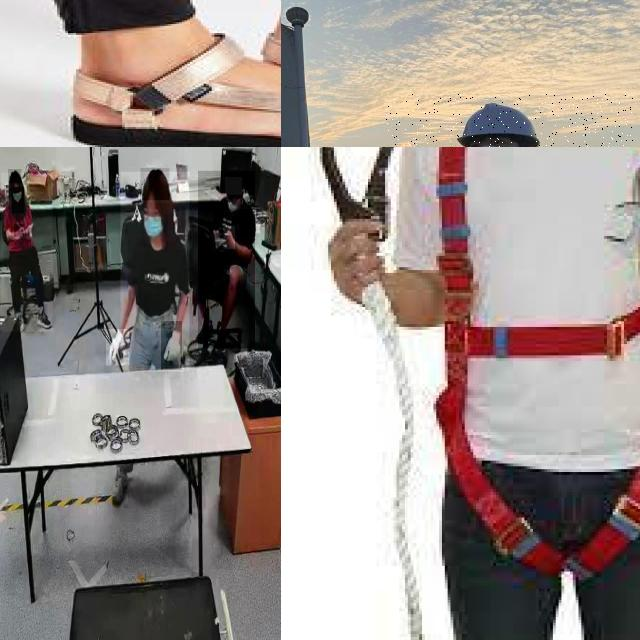Harness: (436, 147, 640, 581)
Sandals: (72, 32, 281, 147)
face_mask: (140, 203, 168, 247), (223, 198, 241, 216), (12, 187, 24, 213)
hand_glove: (161, 321, 183, 371), (106, 329, 130, 366)
hand_noglove: (223, 226, 236, 250), (14, 224, 24, 238), (21, 228, 31, 238)
head_helmet: (455, 103, 541, 147)
head_nohelmet: (140, 168, 170, 201), (225, 177, 243, 196), (8, 169, 22, 184)
person: (120, 172, 190, 372), (386, 93, 634, 147), (198, 171, 256, 349), (1, 172, 53, 332)
shoes: (35, 304, 53, 332)
